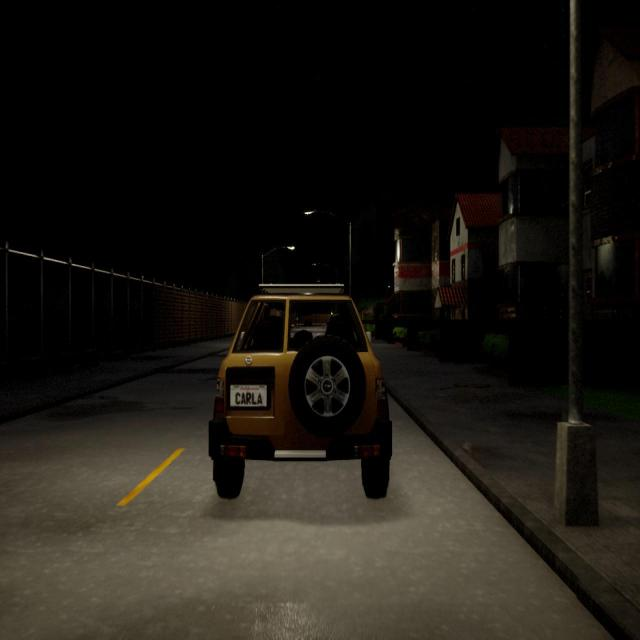Vehicle: (208, 284, 392, 498)
traffic_light: (331, 312, 333, 318)
